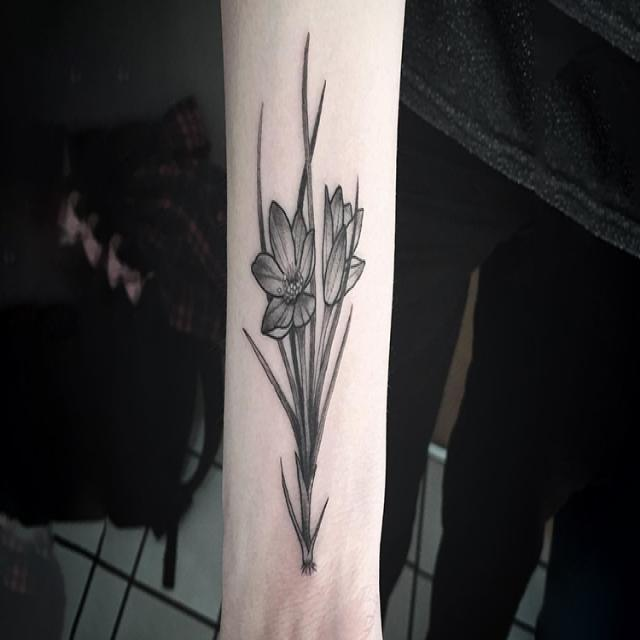Flower: (250, 202, 318, 348), (317, 176, 368, 307)
